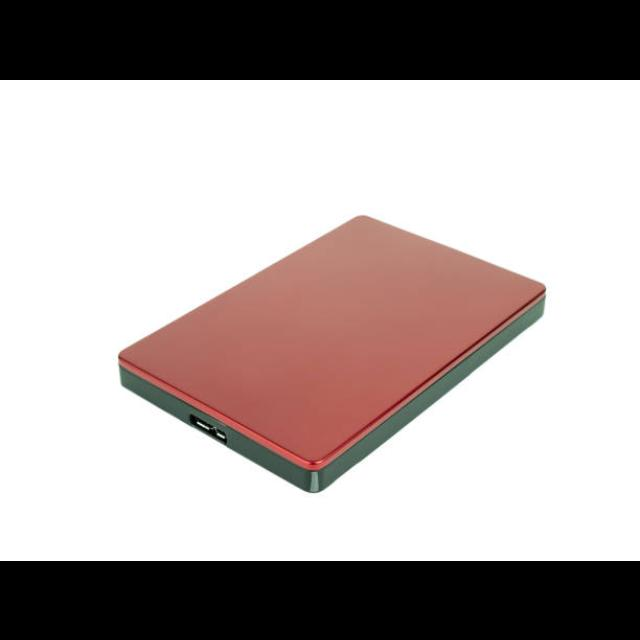HDD: (116, 215, 548, 494)
